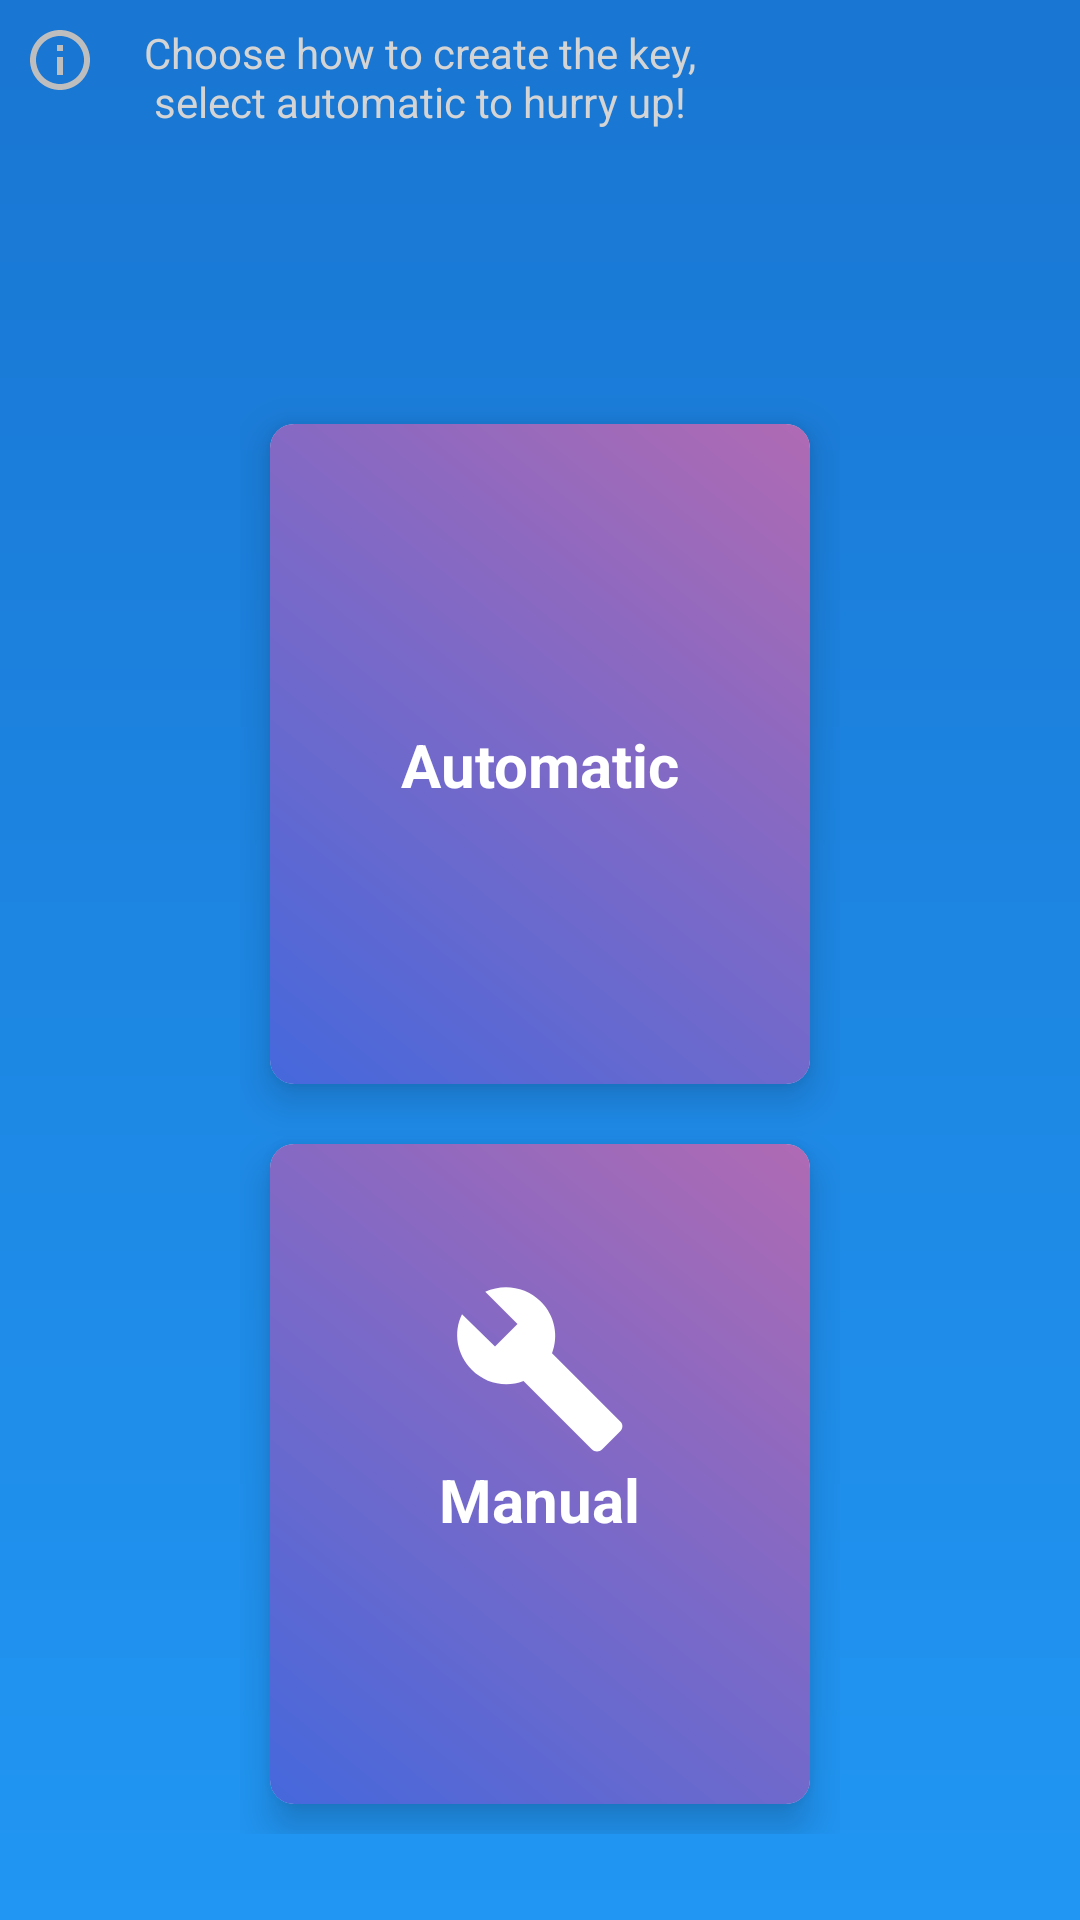

Named icons in this screenshot (1080×1920) and their centers, (x=x, y=y):
build: (x=540, y=1369)
info: (x=60, y=60)
